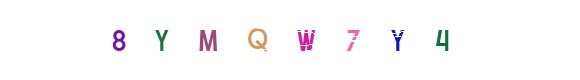4: (357, 0, 437, 80)
7: (279, 0, 359, 80)
8: (103, 0, 183, 80)
M: (218, 0, 298, 80)
Q: (228, 0, 308, 80)
W: (250, 0, 330, 80)
Y: (168, 0, 248, 80), (286, 0, 366, 80)
